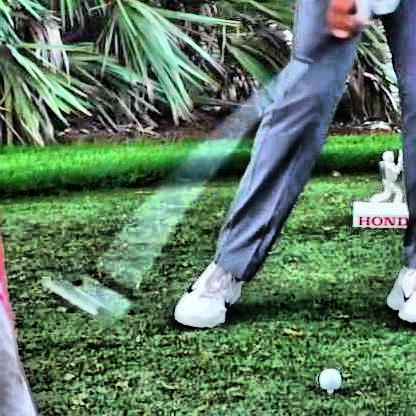golfball: (315, 364, 341, 389)
